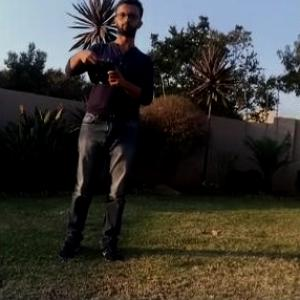follow: (51, 0, 157, 268)
